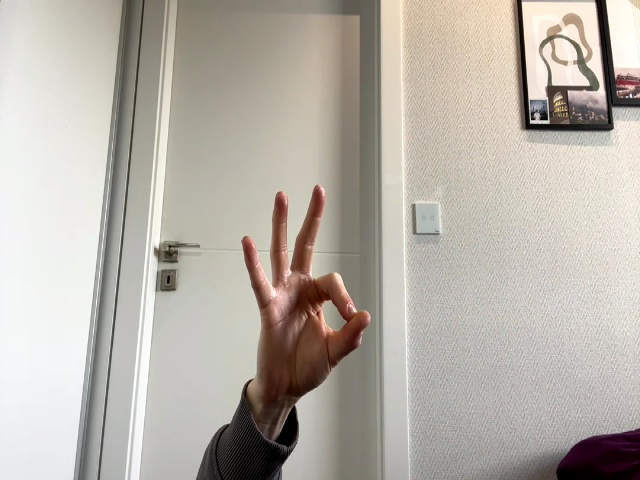O: (241, 185, 371, 400)
